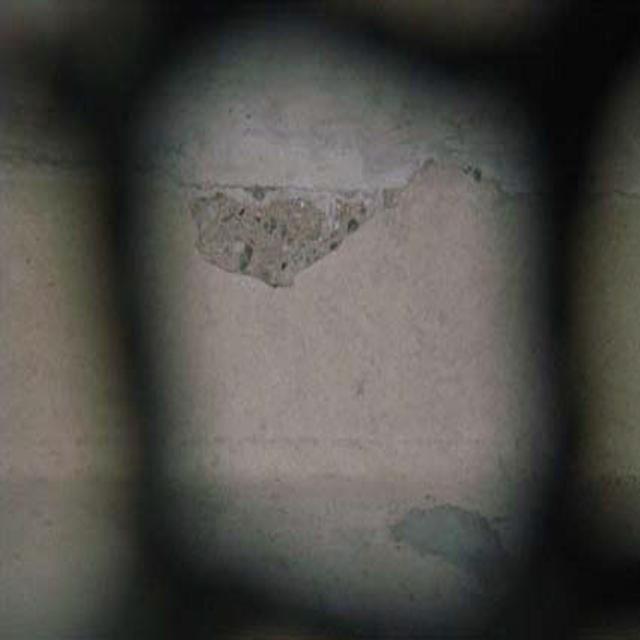spalling: (177, 161, 403, 296)
